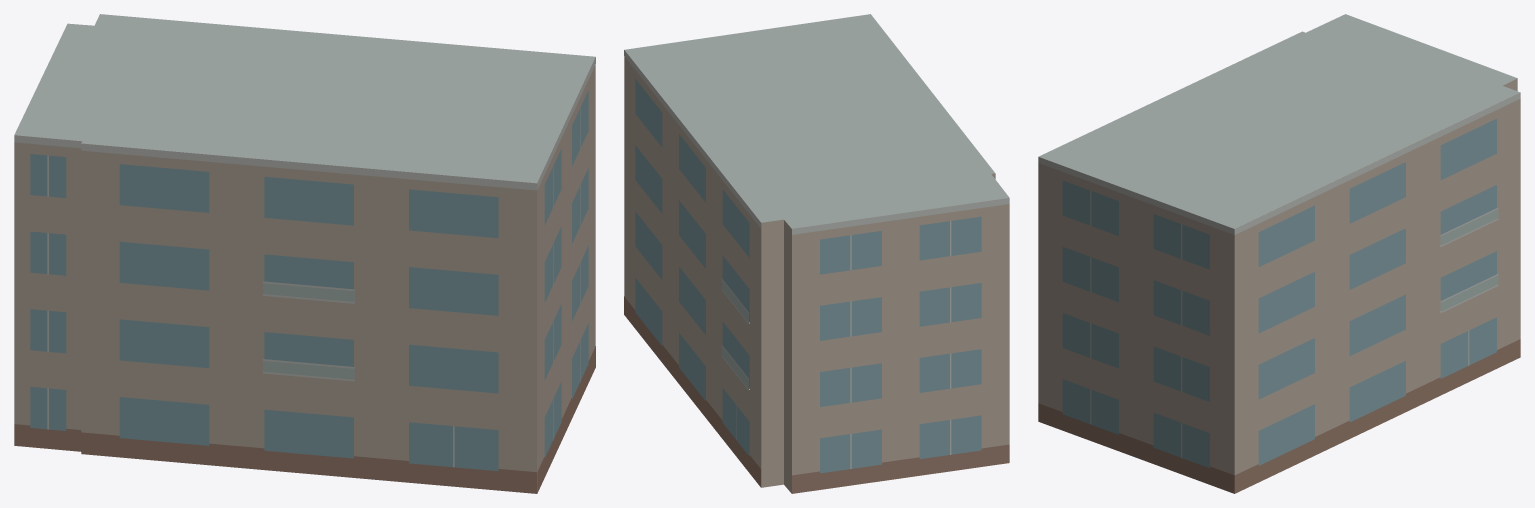
Rendered from survey-upis-32905254.glb.
The picture shows the model from 3 angles, left to right: view 1: azimuth 30°, elevation 25°; view 2: azimuth 150°, elevation 25°; view 3: azimuth 270°, elevation 25°; orthographic projection. The views are drawn at different scales.
Visible parts, largest first — view 1: survey-upis-32905254.tmp; view 2: survey-upis-32905254.tmp; view 3: survey-upis-32905254.tmp.
Part boxes in pixels (<box>): survey-upis-32905254.tmp: <box>14,14,595,493</box>; survey-upis-32905254.tmp: <box>624,14,1009,493</box>; survey-upis-32905254.tmp: <box>1038,14,1520,493</box>.
Size of the model in its own units: 18.46 by 10.6 by 17.5.
